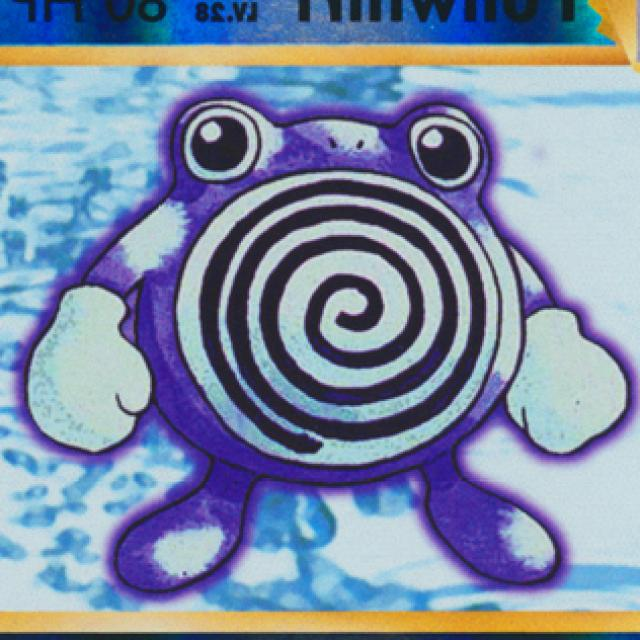Poliwhirl: (70, 87, 592, 594)
